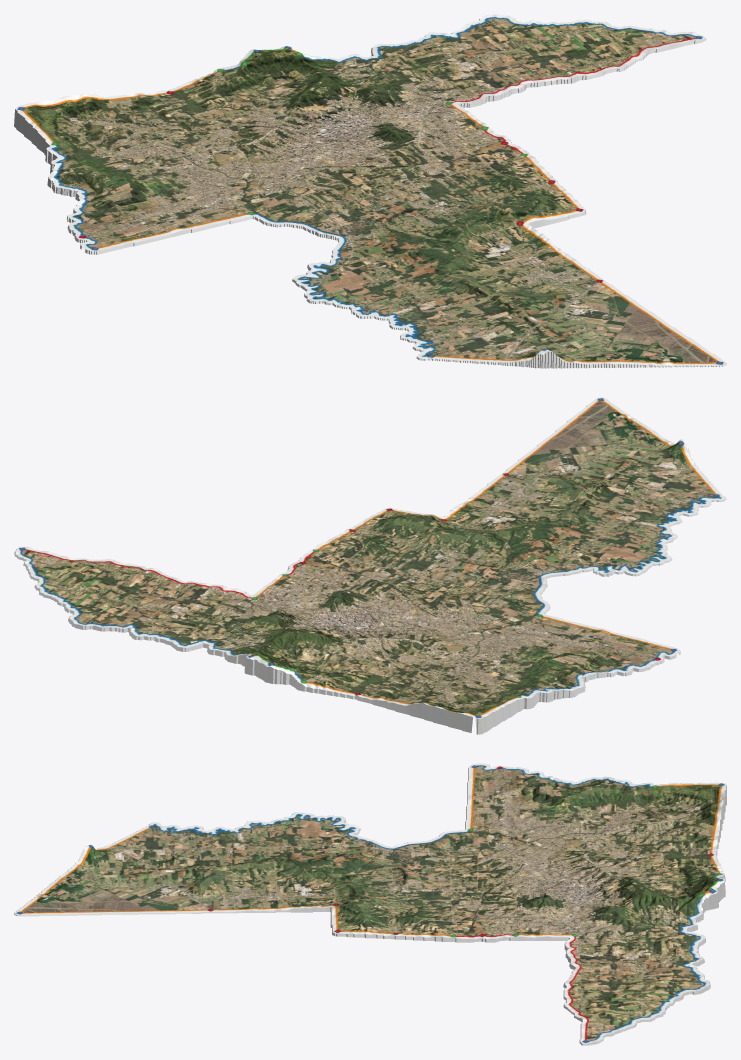
3 views of the same model, one above another, from view 1: azimuth 30°, elevation 25°; view 2: azimuth 150°, elevation 25°; view 3: azimuth 270°, elevation 25° (orthographic). The views are drawn at different scales.
Size of the model in its own units: 0.9993 by 0.0269 by 1.08.
Materials: 1 (1 with a texture image).
